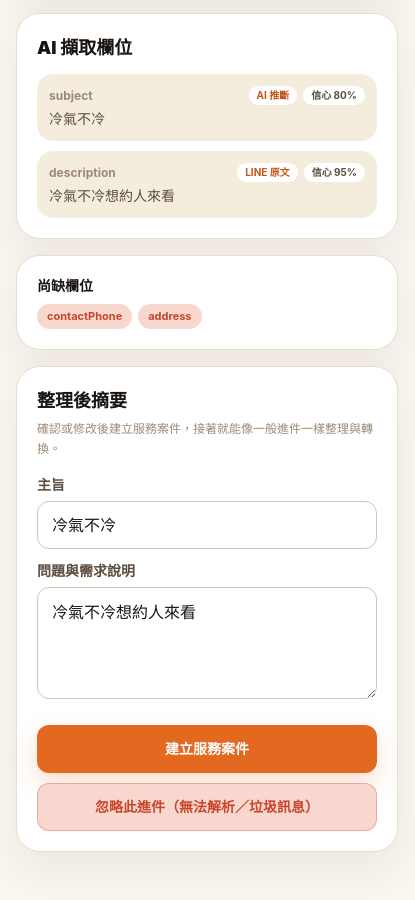
Scenario: PilotIntakeDraftReview › surfaces a confirm error without losing the draft
(page scrolled)
What coordinates should you click on to do the following:
click the button "建立服務案件"
I would click on:
 (207, 748)
Its box is [37,724,377,772].
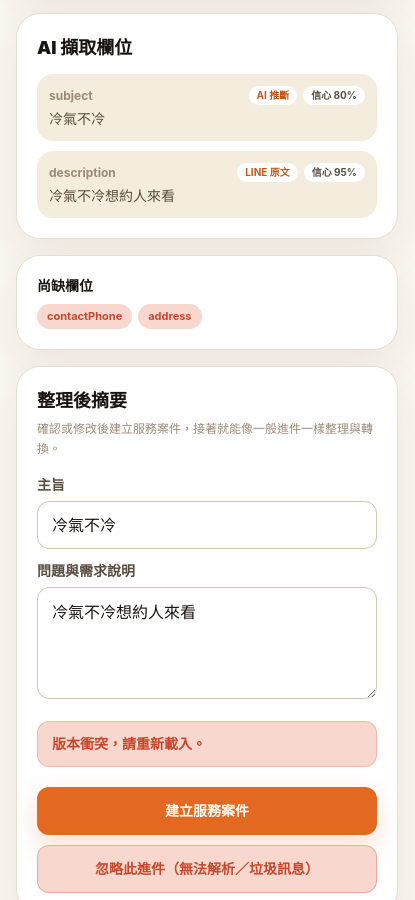
Expected: the button "建立服務案件" is shown, [37,786,377,834]
Now the text "版本衝突，請重新載入。" is shown, box [37,720,377,766]
